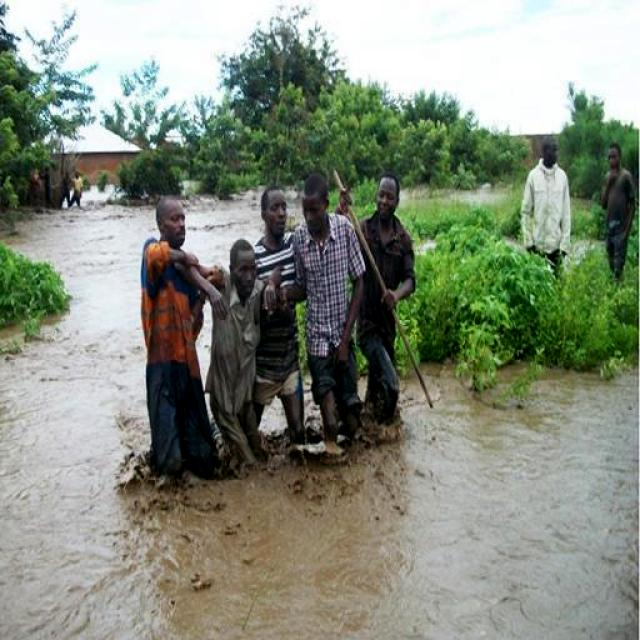civilian: (132, 182, 238, 519), (275, 159, 379, 466), (335, 155, 421, 479), (192, 226, 292, 498), (242, 175, 316, 466), (518, 130, 581, 306), (590, 129, 638, 310), (38, 163, 58, 219), (72, 164, 90, 214), (56, 170, 74, 218)
